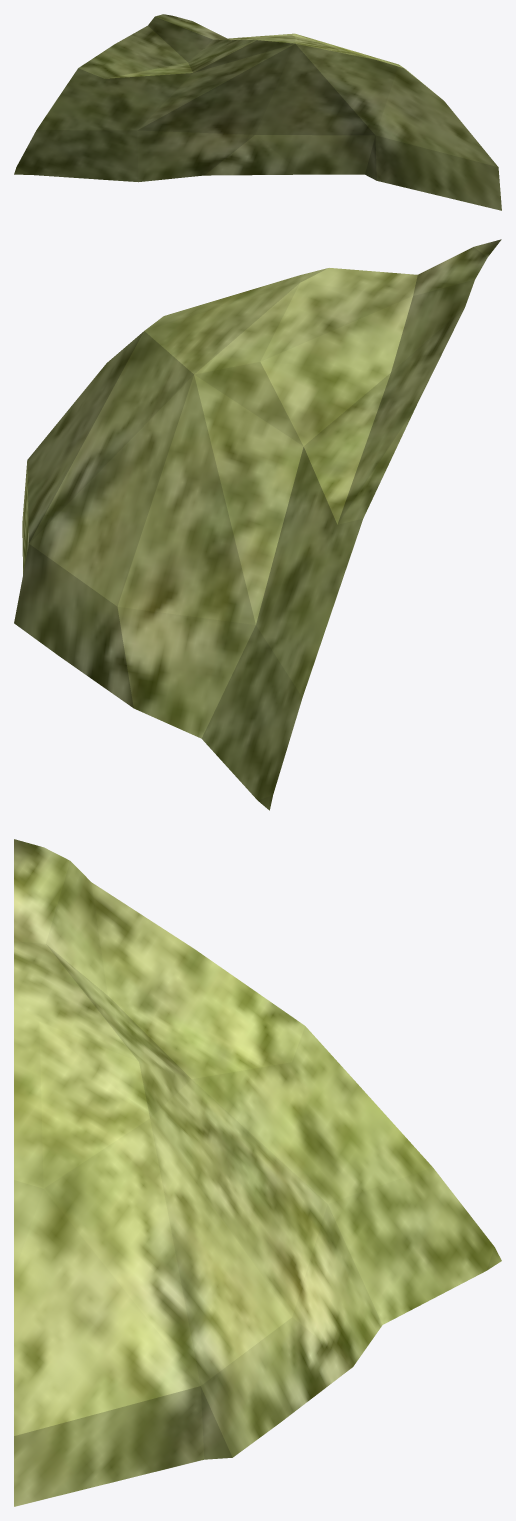
3 renders of one model, top to bottom at view 1: azimuth 30°, elevation 25°; view 2: azimuth 150°, elevation 25°; view 3: azimuth 270°, elevation 25°, orthographic. The views are drawn at different scales.
Size of the model in its own units: 1.1 by 0.882 by 0.9245.
1 material, 1 textured.
